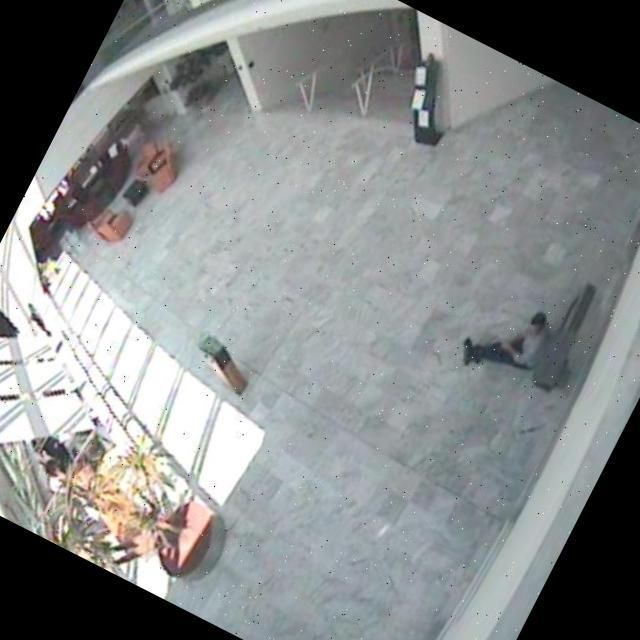person: (450, 283, 565, 400)
